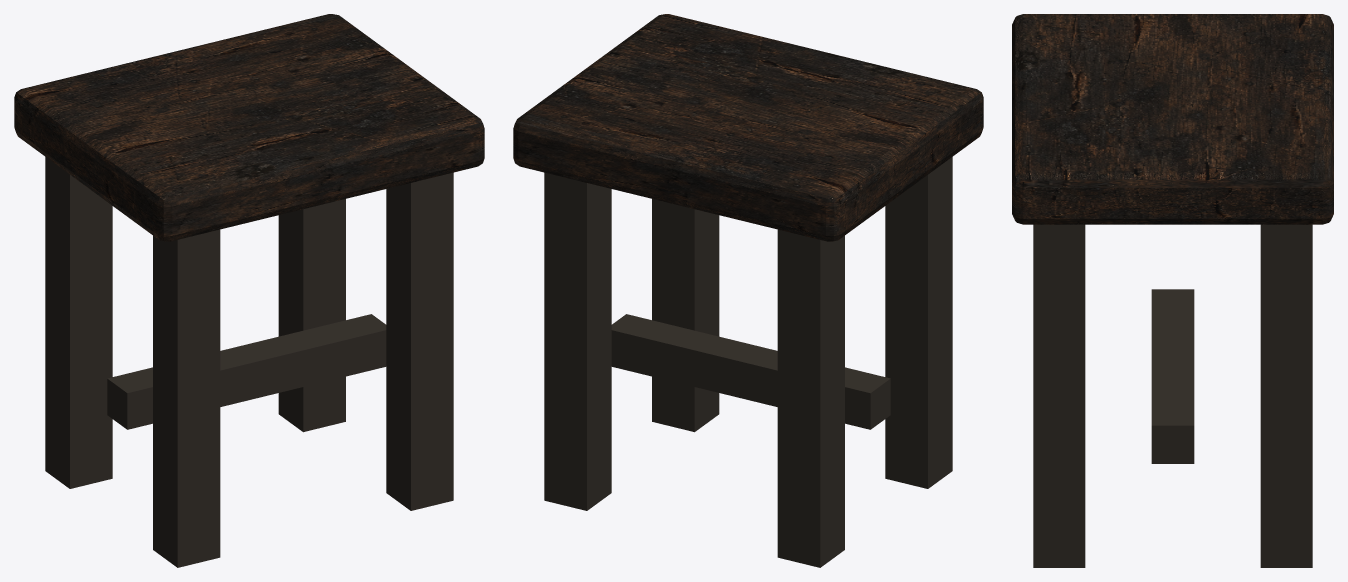
File: stool.glb
The picture shows the model from 3 angles, left to right: view 1: azimuth 30°, elevation 25°; view 2: azimuth 150°, elevation 25°; view 3: azimuth 270°, elevation 25°; orthographic projection. The views are drawn at different scales.
Visible parts, largest first — view 1: stool; view 2: stool; view 3: stool.
Part boxes in pixels (left/top/right/bottom): stool: left=14, top=14, right=484, bottom=567; stool: left=513, top=14, right=983, bottom=567; stool: left=1012, top=14, right=1333, bottom=567.
Bounding box in the file's own units: 0.42 × 0.47 × 0.34.
2 materials, 1 textured.
